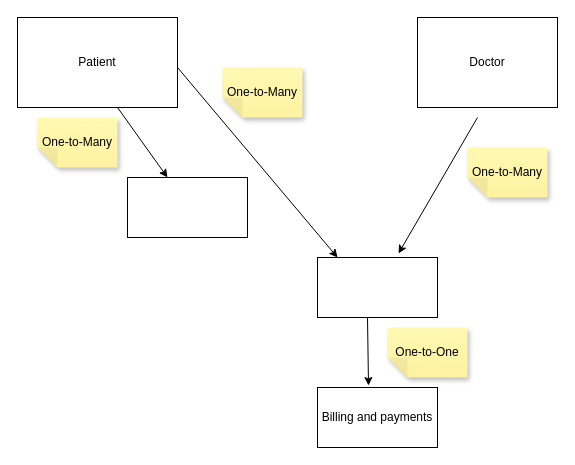
Some shapes in this 575 by 465 pixel diagram are drawn without their labels. The centre of each missing label's shape, as x and y in pixels:
Appointment: pixel 377 287
Diagnostics: pixel 187 207
